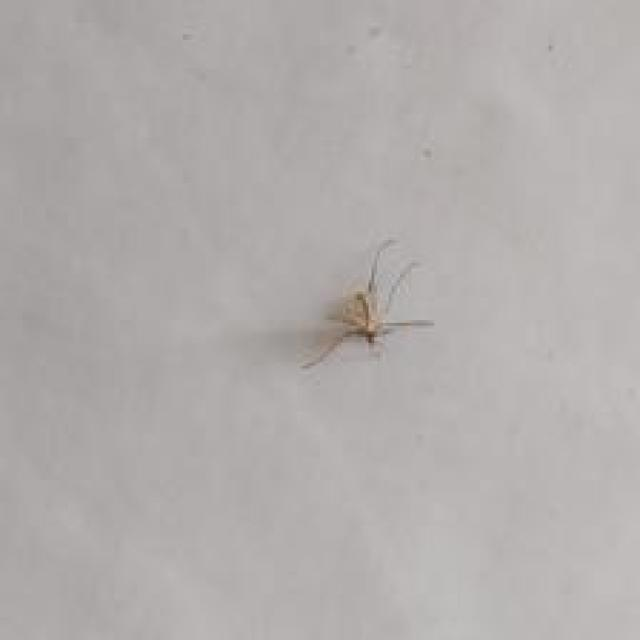Culex: (298, 236, 436, 370)
